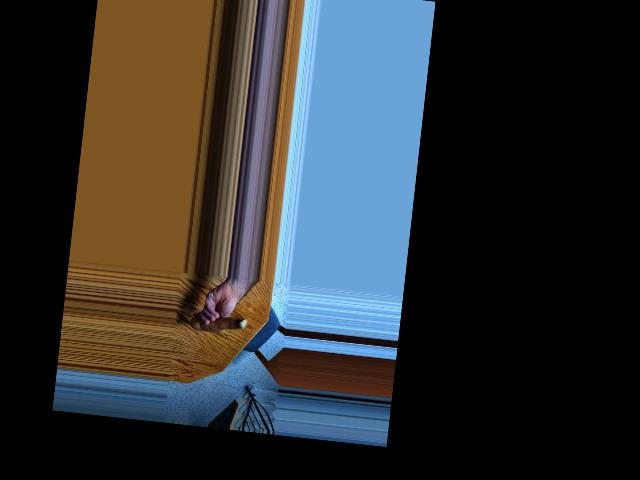sweet_potato: (188, 307, 246, 337)
